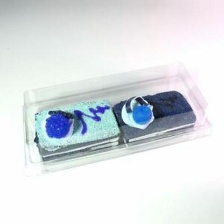plastic_box: (12, 51, 221, 185)
